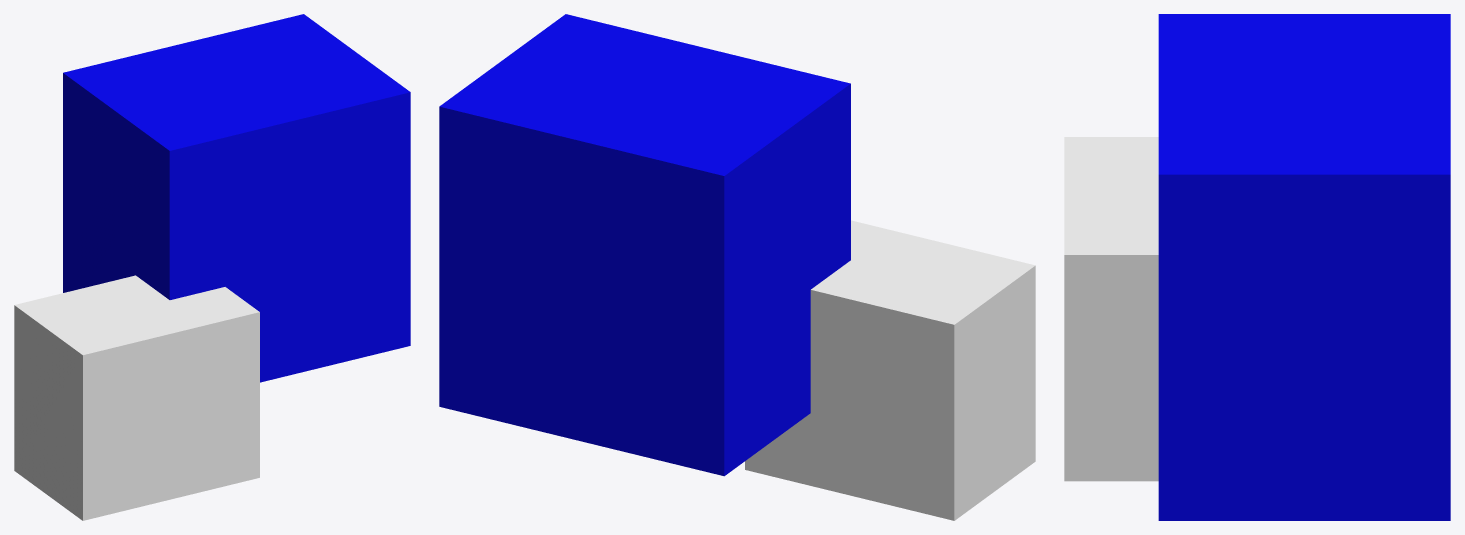
3 renders of one model, left to right at view 1: azimuth 30°, elevation 25°; view 2: azimuth 150°, elevation 25°; view 3: azimuth 270°, elevation 25°, orthographic. The views are drawn at different scales.
Visible parts, largest first — view 1: a9577e42-d67e-44d9-927a-91078340e422, af15d1f7-754e-4705-adea-b5496434e10f; view 2: a9577e42-d67e-44d9-927a-91078340e422, af15d1f7-754e-4705-adea-b5496434e10f; view 3: a9577e42-d67e-44d9-927a-91078340e422, af15d1f7-754e-4705-adea-b5496434e10f.
Boxes of the visible parts, x1,y1,x2,y2 form: a9577e42-d67e-44d9-927a-91078340e422: (63,14,410,382); af15d1f7-754e-4705-adea-b5496434e10f: (14,275,259,520); a9577e42-d67e-44d9-927a-91078340e422: (439,14,850,476); af15d1f7-754e-4705-adea-b5496434e10f: (745,220,1035,520); a9577e42-d67e-44d9-927a-91078340e422: (1158,14,1450,520); af15d1f7-754e-4705-adea-b5496434e10f: (1064,137,1158,481).
Bounding box in the file's own units: 99456 × 67232 × 82601.
